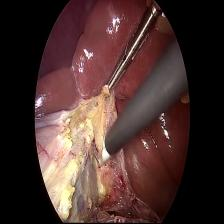Grasper: (101, 2, 161, 102)
Hook: (92, 133, 112, 175)
